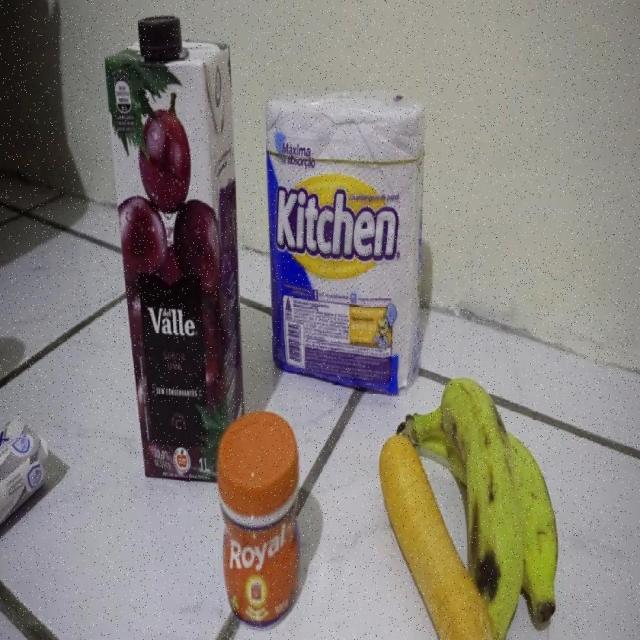Banana: (395, 376, 561, 640)
Carrot: (379, 431, 501, 640)
Napkin: (265, 79, 428, 393)
Soap: (1, 411, 52, 551)
Yeast: (216, 409, 304, 627)
